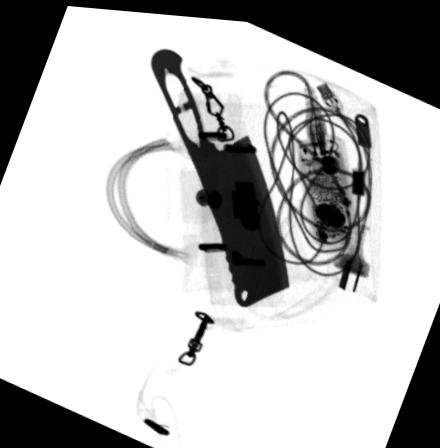Knife: (148, 43, 290, 304)
